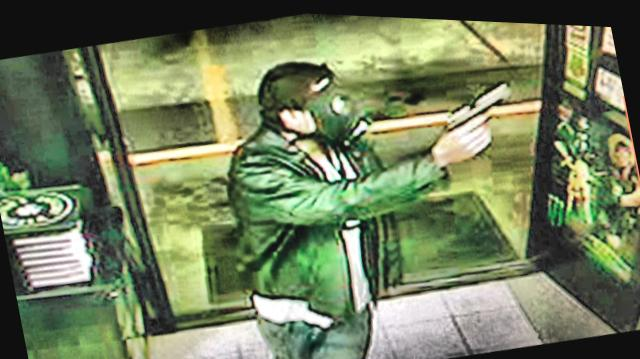pistol: (432, 66, 516, 144)
